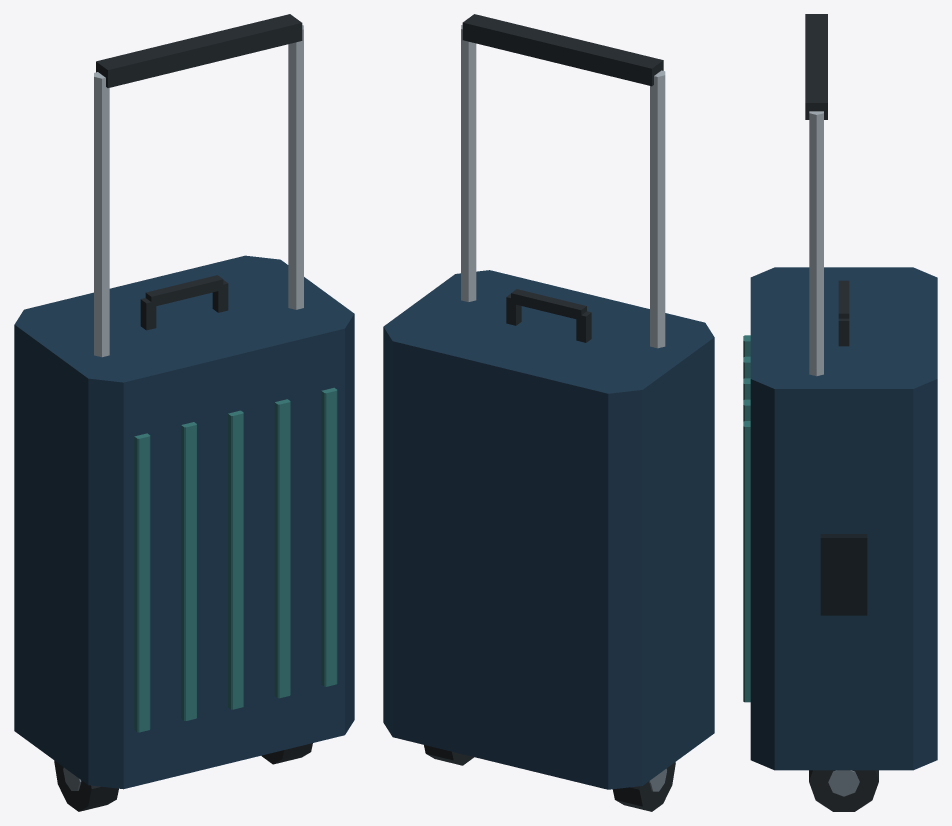
The model's file is b17_ribbed_rolling_suitcase.glb.
3 renders of one model, left to right at view 1: azimuth 30°, elevation 25°; view 2: azimuth 150°, elevation 25°; view 3: azimuth 270°, elevation 25°, orthographic. The views are drawn at different scales.
Parts seen in each view (by area): view 1: b17_ribbed_rolling_suitcase; view 2: b17_ribbed_rolling_suitcase; view 3: b17_ribbed_rolling_suitcase.
Boxes of the visible parts, box(x1,y1,x2,y2) form: b17_ribbed_rolling_suitcase: box(14, 14, 354, 811); b17_ribbed_rolling_suitcase: box(383, 14, 714, 811); b17_ribbed_rolling_suitcase: box(743, 14, 937, 811).
Bounding box in the file's own units: 0.3825 × 0.9948 × 0.249.
